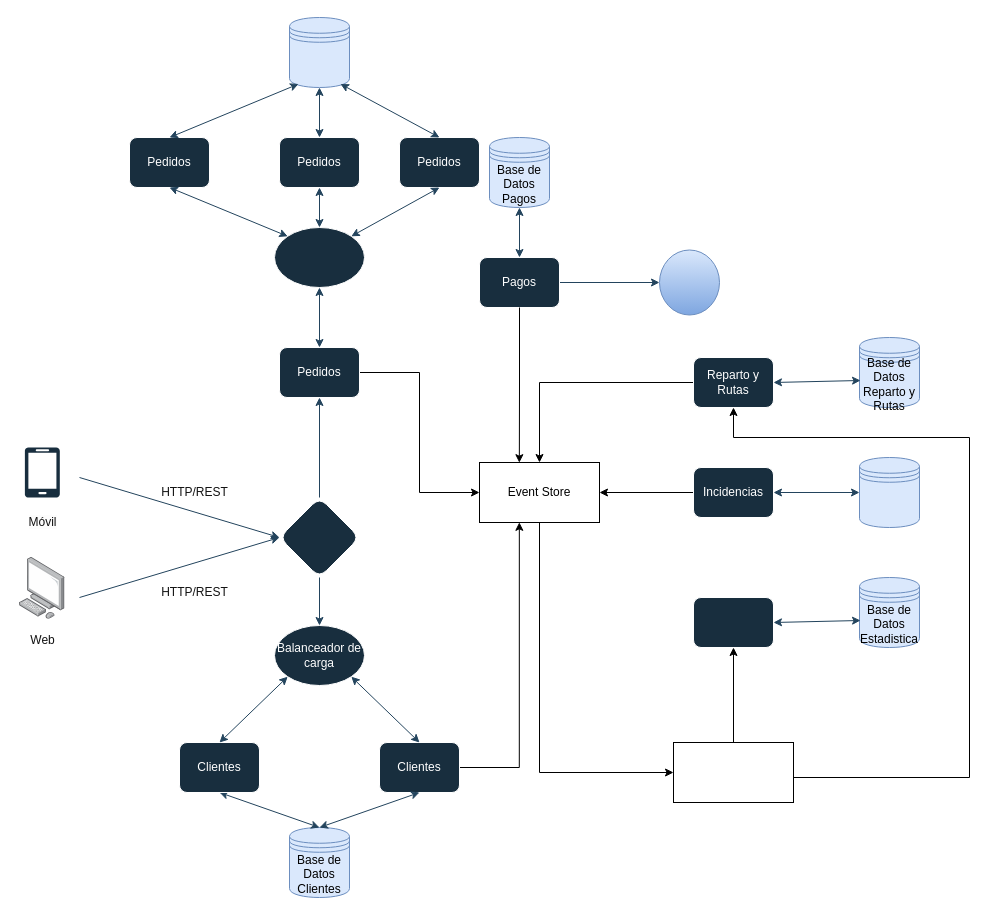
This 995x915 diagram has some shape labels left out. Here are the shapes that lost their labels. From the top down, the box of each, then its label:
(288, 16, 350, 88): Base de Datos Pedidos
(274, 226, 364, 288): Orquestador de flujo
(658, 249, 720, 315): Mercado Pago
(858, 456, 920, 528): Base de Datos Incidencia
(278, 496, 360, 578): API Gateway
(692, 596, 774, 648): Estadística
(672, 742, 794, 802): Event Handler
